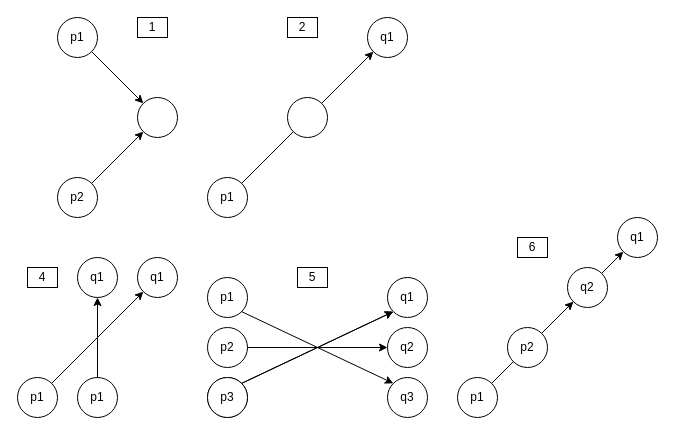
This 675x435 diagram has some shape labels left out. The shapes that lost their labels are listed below. From the top down, each one's box as (x1, y1, x2, y2) in pixels, then its label:
(136, 96, 178, 138): q1/2
(286, 96, 328, 138): pq2
